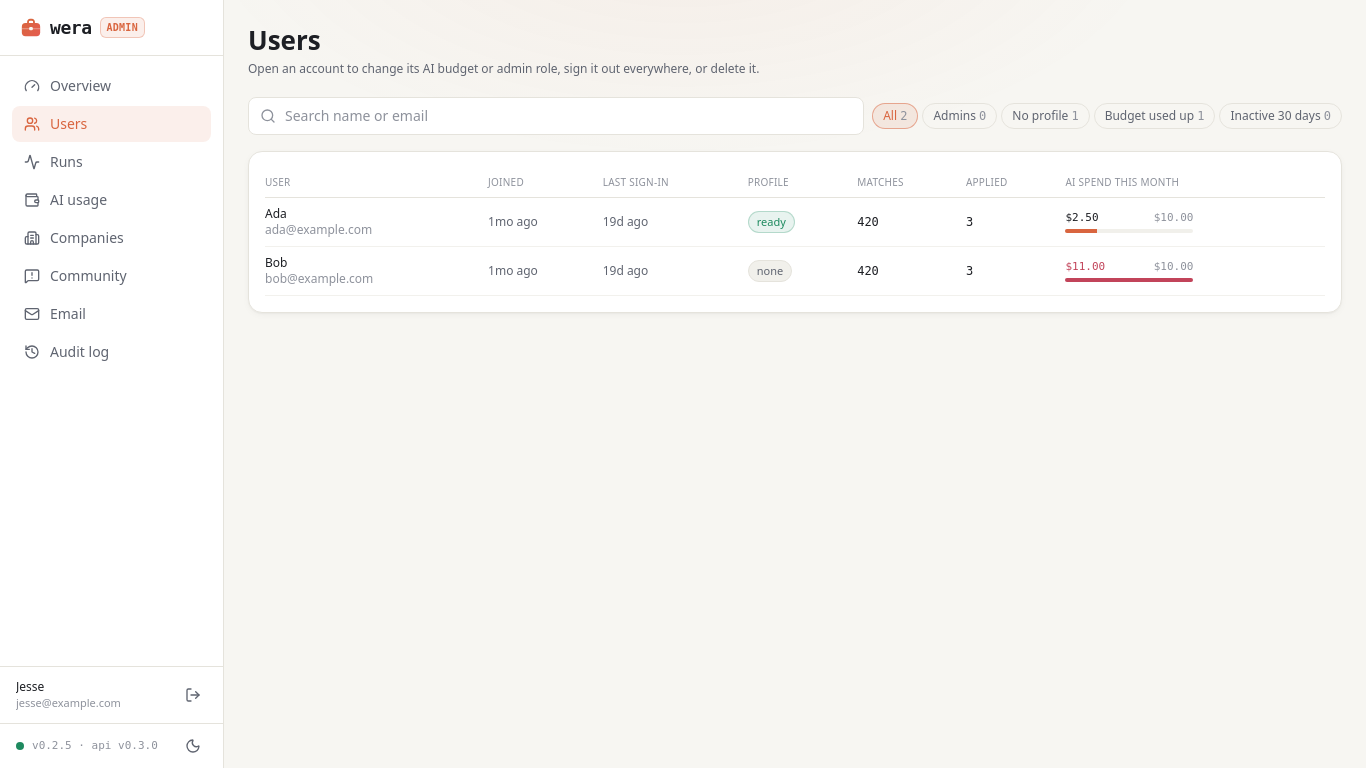
Test case: UsersPage › searches and filters accounts
Expected: the text "Ada" is shown, [265,205,287,222]
Click the button "No profile 1".
click(1045, 116)  # box [1001,102,1090,128]
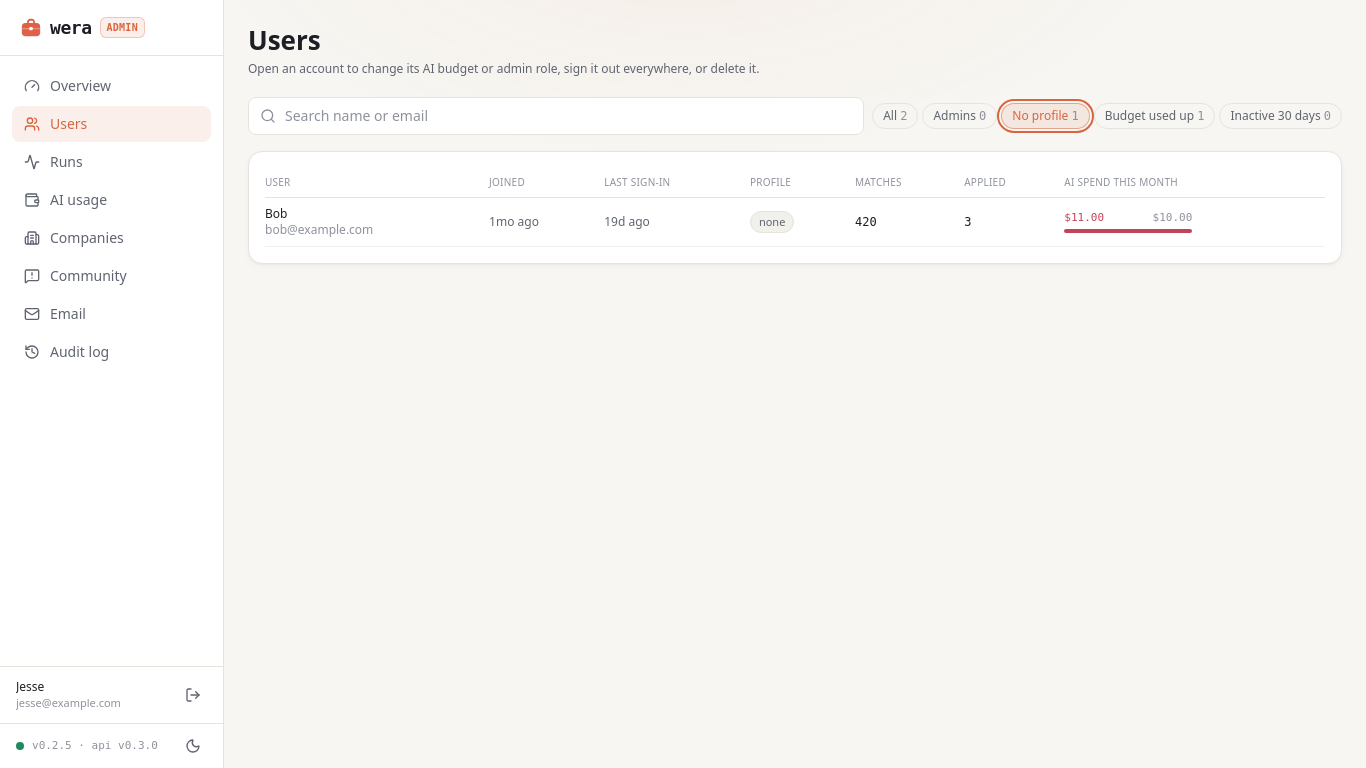
Expected: the text "Bob" is shown, [265,205,288,222]
Expected: the button "Ada" is gone
Click the button "All 2".
click(895, 116)  # box [872,102,918,128]
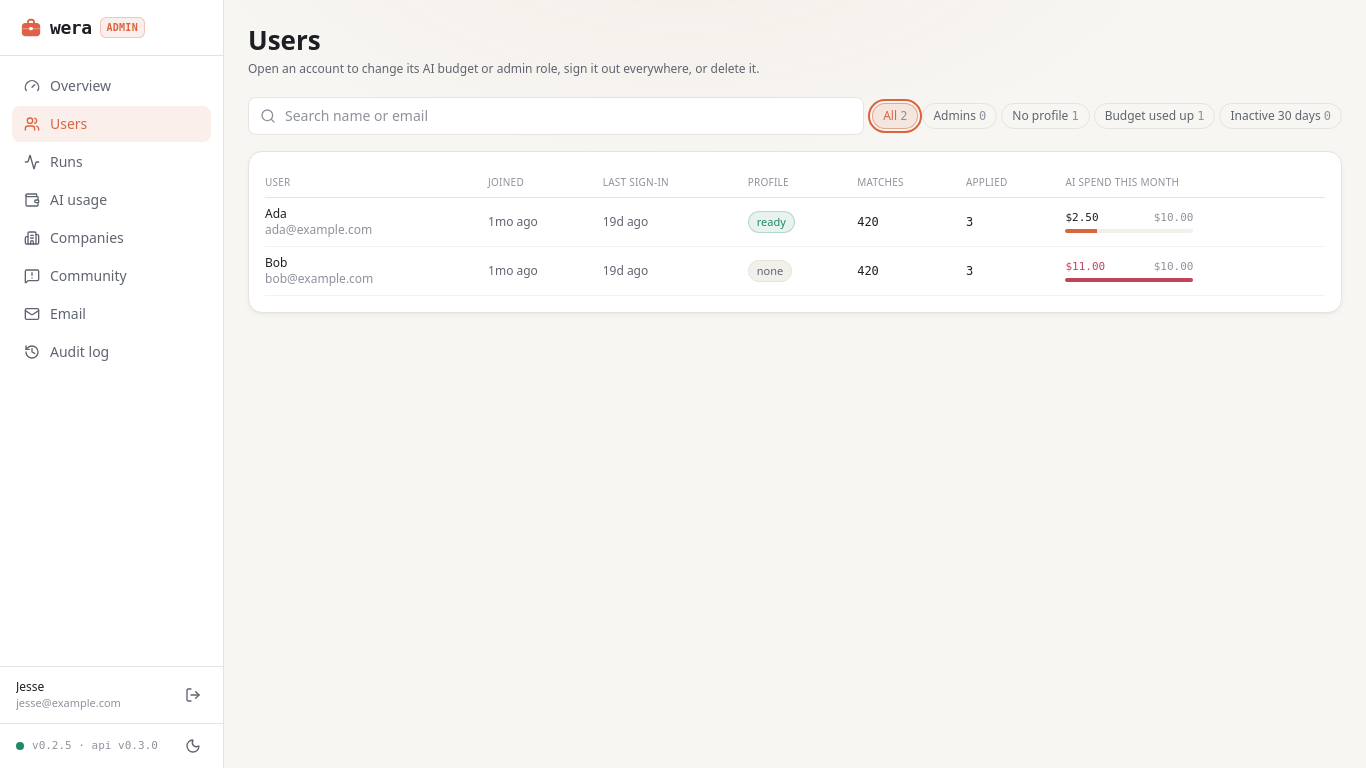
Type "ada@" into the field named "Search users".
click(556, 116); type("ada@")  # box [248,96,864,134]
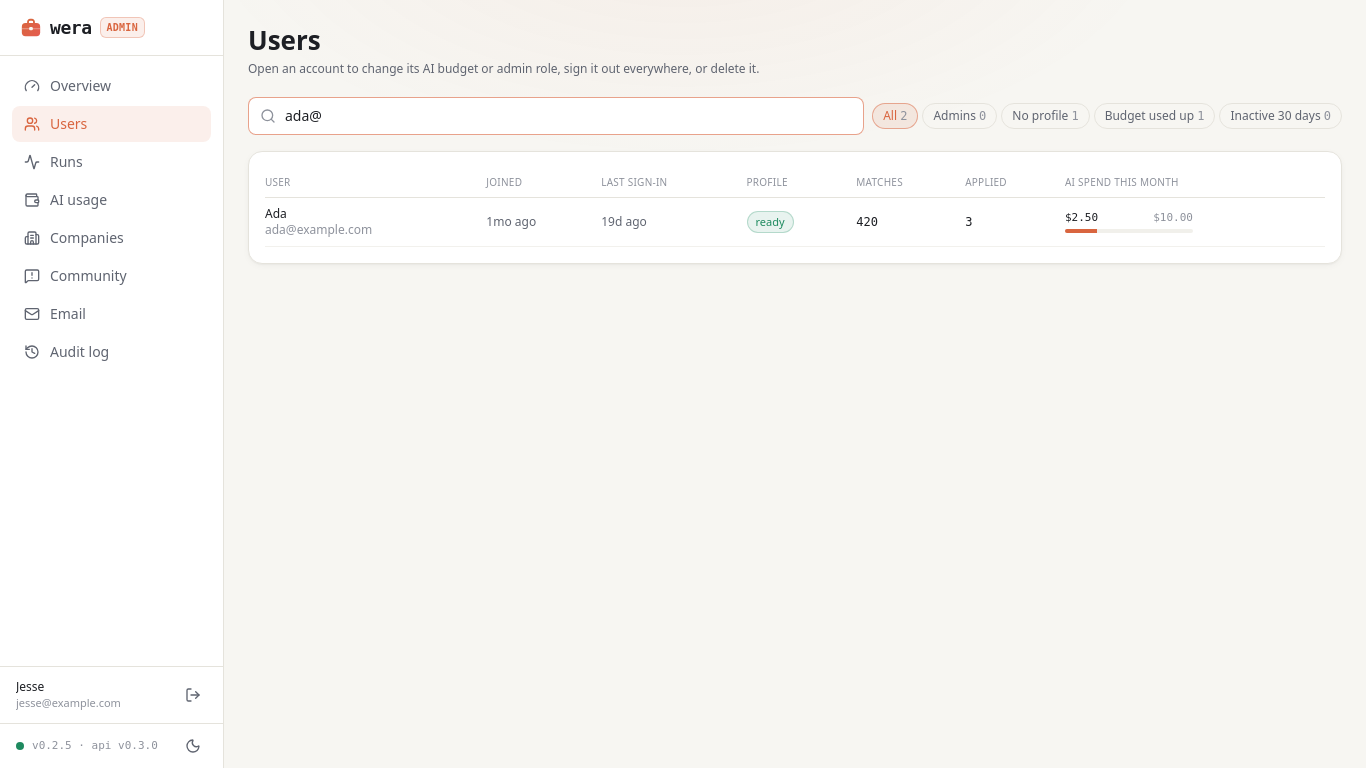
Expected: the button "Bob" is gone
